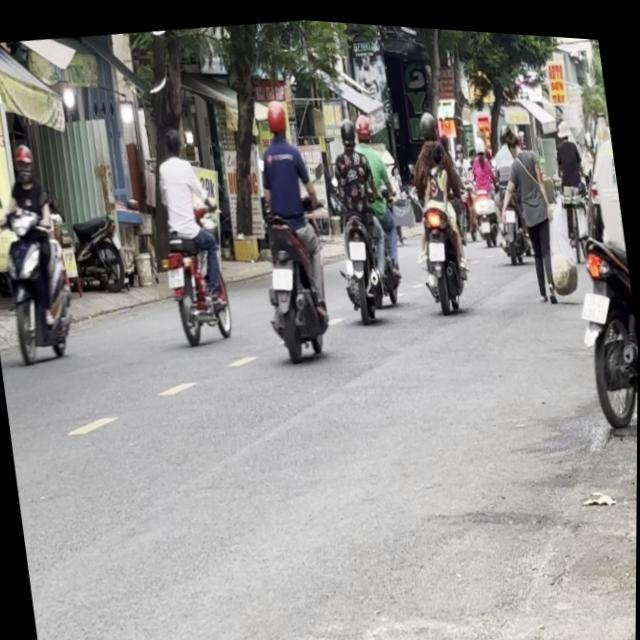helmet: (261, 92, 288, 134), (10, 141, 35, 180), (414, 103, 437, 136), (351, 104, 372, 137), (337, 110, 357, 144)
licenseplate: (545, 61, 640, 442), (239, 89, 339, 362), (142, 114, 237, 348), (318, 101, 411, 320), (0, 136, 82, 370), (397, 98, 477, 309)
motorcyclist: (160, 122, 182, 155)
nohelmet: (578, 280, 610, 314), (268, 260, 294, 287), (346, 233, 367, 256), (164, 261, 184, 284), (427, 233, 446, 256)
